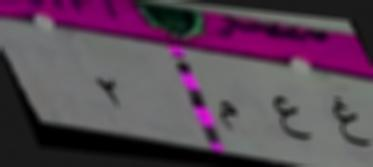2: (92, 70, 126, 111)
ain: (267, 92, 312, 142)
ghayn: (326, 91, 372, 156)
meem: (216, 94, 245, 133)
